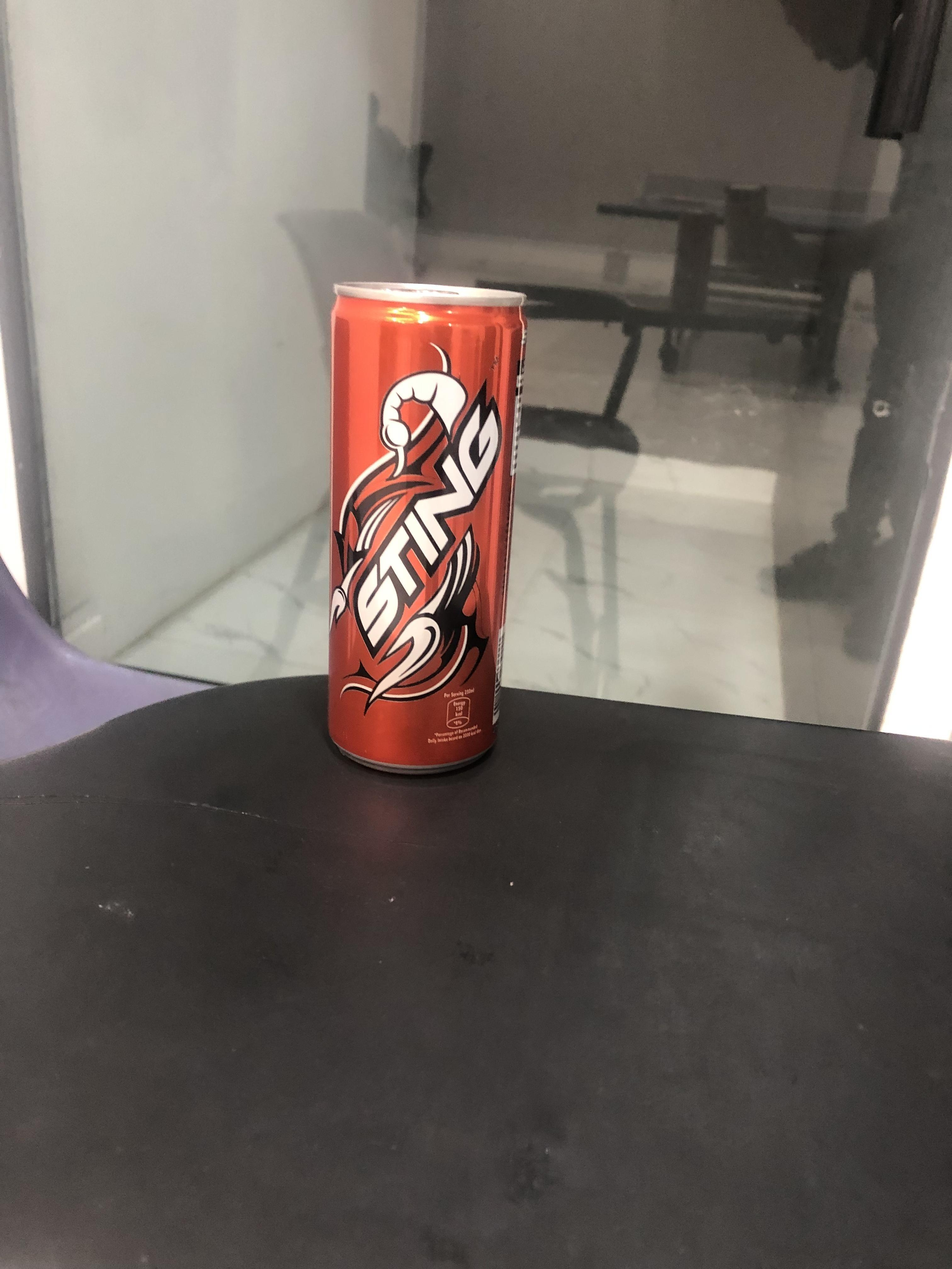tin can: (319, 271, 528, 778)
